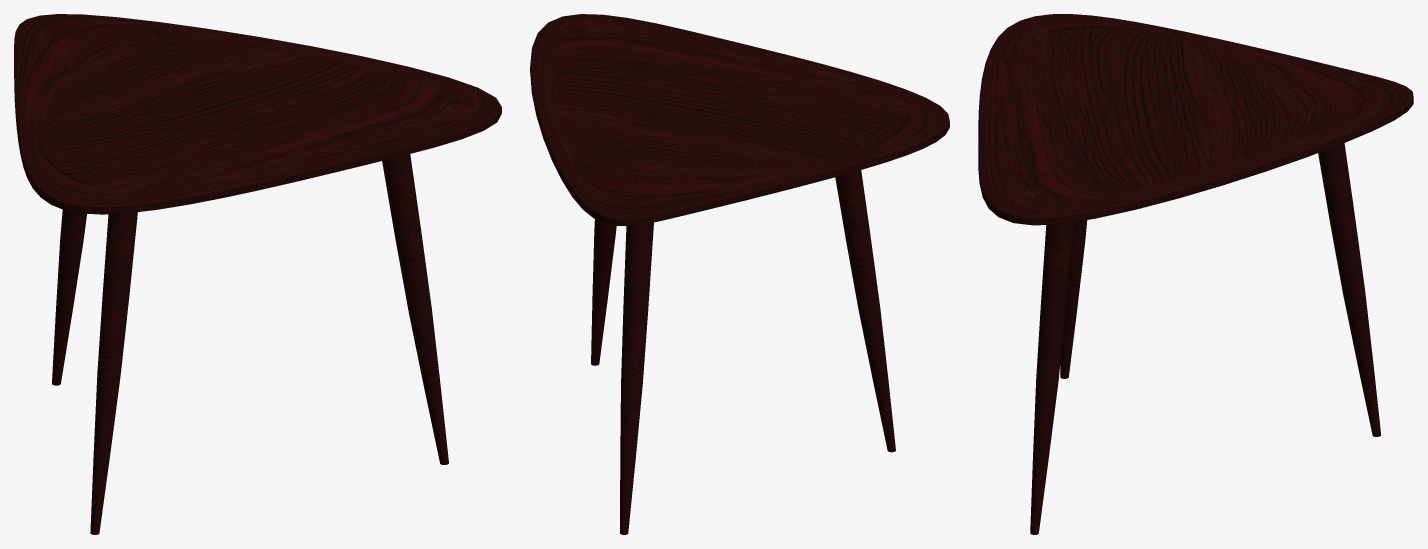
Rendered from table.fbx.
The picture shows the model from 3 angles, left to right: view 1: azimuth 30°, elevation 25°; view 2: azimuth 150°, elevation 25°; view 3: azimuth 270°, elevation 25°; orthographic projection. The views are drawn at different scales.
Parts seen in each view (by area): view 1: table.001, table.002, table, table.003; view 2: table.001, table.003, table.002, table; view 3: table.001, table, table.003, table.002.
Part boxes in pixels (bbox=[...]): table.001: bbox=[14, 14, 501, 214]; table.002: bbox=[90, 212, 137, 534]; table: bbox=[382, 154, 448, 464]; table.003: bbox=[52, 209, 86, 385]; table.001: bbox=[530, 14, 949, 225]; table.003: bbox=[620, 222, 653, 534]; table.002: bbox=[835, 170, 895, 452]; table: bbox=[591, 219, 616, 365]; table.001: bbox=[978, 14, 1413, 225]; table: bbox=[1030, 222, 1074, 534]; table.003: bbox=[1318, 143, 1380, 436]; table.002: bbox=[1060, 220, 1087, 378].
Bounding box in the file's own units: 66.2 × 51.61 × 59.68.
1 material, 1 textured.
